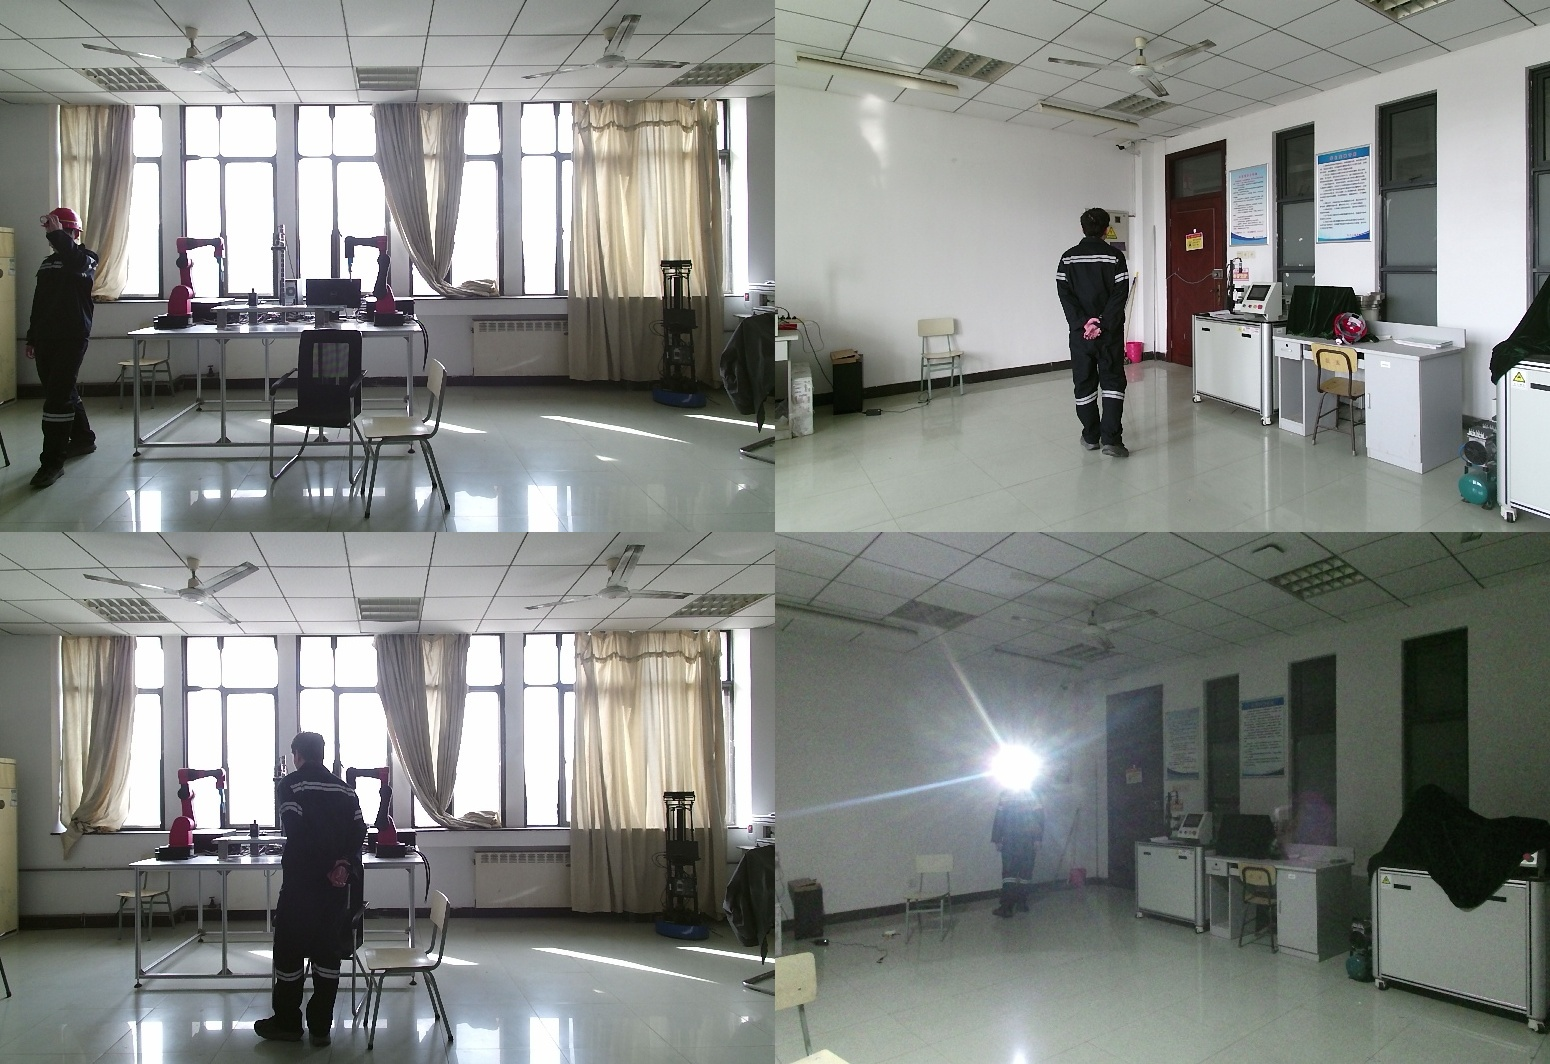person: (255, 734, 369, 1043), (1054, 209, 1141, 460), (25, 210, 101, 489), (991, 763, 1049, 922)
